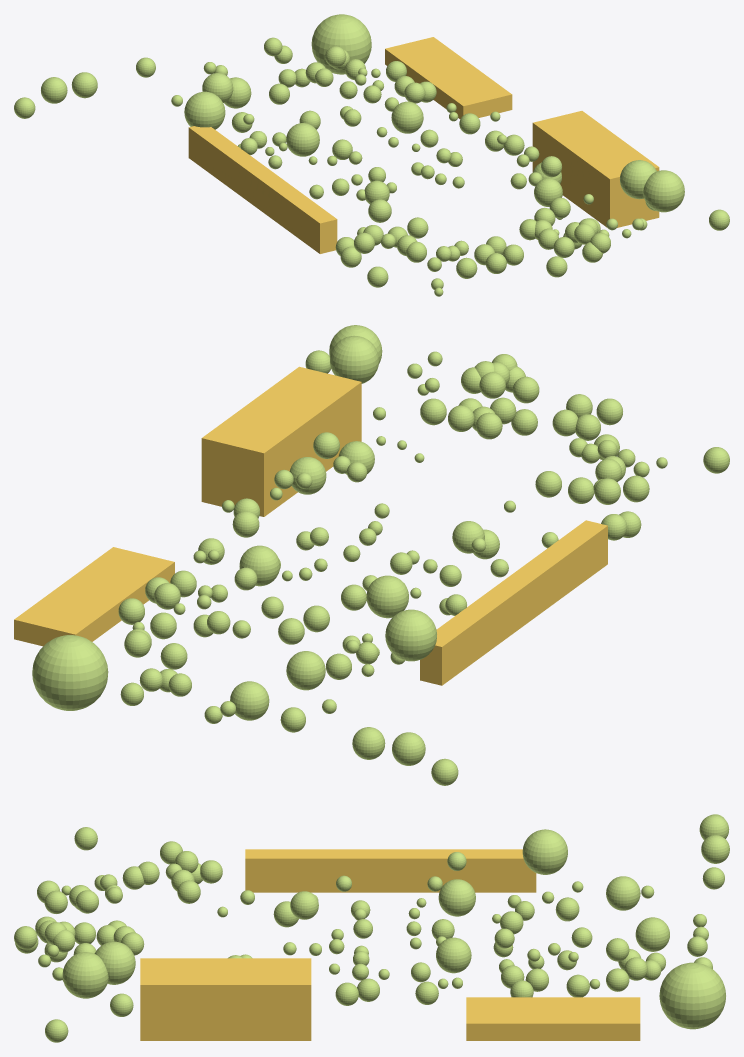
The model's file is trees.fbx.
3 views of the same model, one above another, from view 1: azimuth 30°, elevation 25°; view 2: azimuth 150°, elevation 25°; view 3: azimuth 270°, elevation 25° (orthographic). The views are drawn at different scales.
Visible parts, largest first — view 1: Trees, Entrance_2; view 2: Trees, Entrance_2; view 3: Trees, Entrance_2.
Part boxes in pixels (box(x1,y1,x2,y2)): Trees: box(14, 14, 729, 296); Entrance_2: box(188, 37, 659, 253); Trees: box(32, 325, 729, 785); Entrance_2: box(14, 366, 607, 685); Trees: box(14, 814, 729, 1042); Entrance_2: box(140, 849, 640, 1040).
Size of the model in its own units: 6437 by 1366 by 8672.
